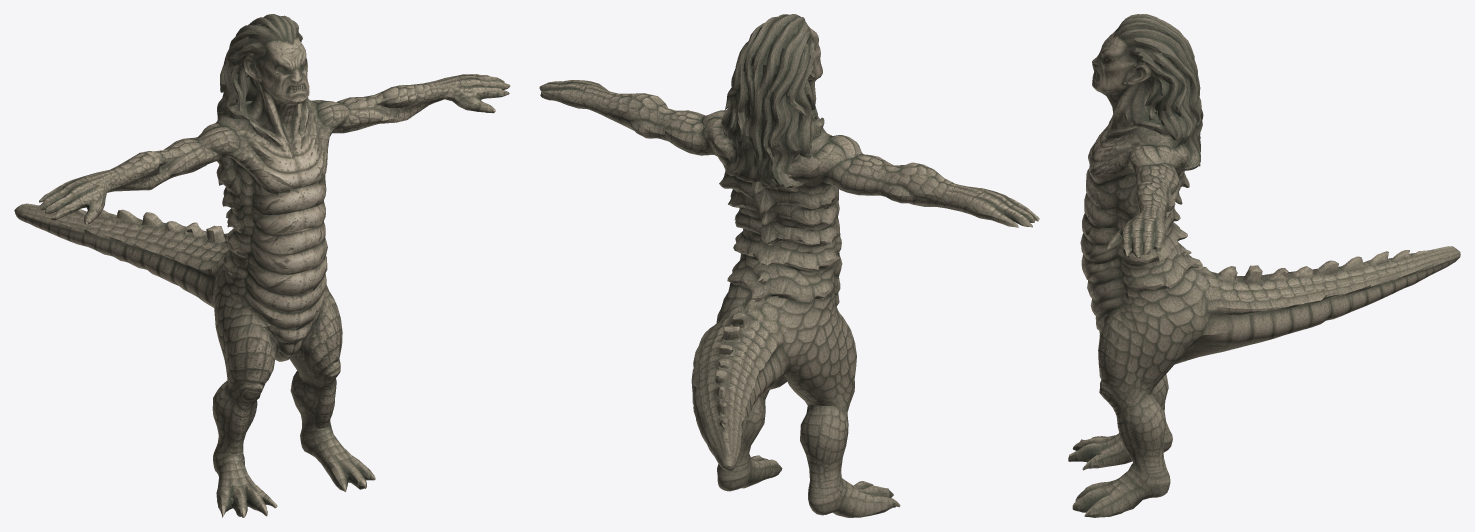
The model's file is hombre_caiman.glb.
3 views of the same model, side by side, from view 1: azimuth 30°, elevation 25°; view 2: azimuth 150°, elevation 25°; view 3: azimuth 270°, elevation 25° (orthographic). The views are drawn at different scales.
Visible parts, largest first — view 1: Hombre Caiman.001; view 2: Hombre Caiman.001; view 3: Hombre Caiman.001.
Boxes of the visible parts, <box> form: Hombre Caiman.001: <box>14,14,510,517</box>; Hombre Caiman.001: <box>539,14,1039,517</box>; Hombre Caiman.001: <box>1068,14,1460,517</box>.
Size of the model in its own units: 1.06 by 1 by 0.7609.
Materials: 1 (1 with a texture image).
